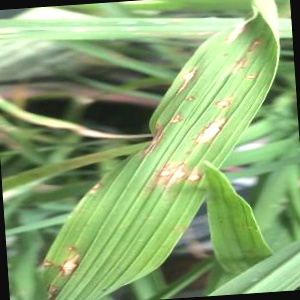Brown_Spot: (195, 111, 237, 146), (173, 60, 206, 96), (55, 243, 84, 278), (220, 19, 254, 43), (210, 89, 239, 117), (168, 102, 194, 130), (227, 50, 251, 75), (181, 87, 207, 110), (188, 164, 206, 192), (153, 161, 175, 183), (237, 67, 262, 86), (244, 33, 264, 53), (172, 162, 189, 182)
